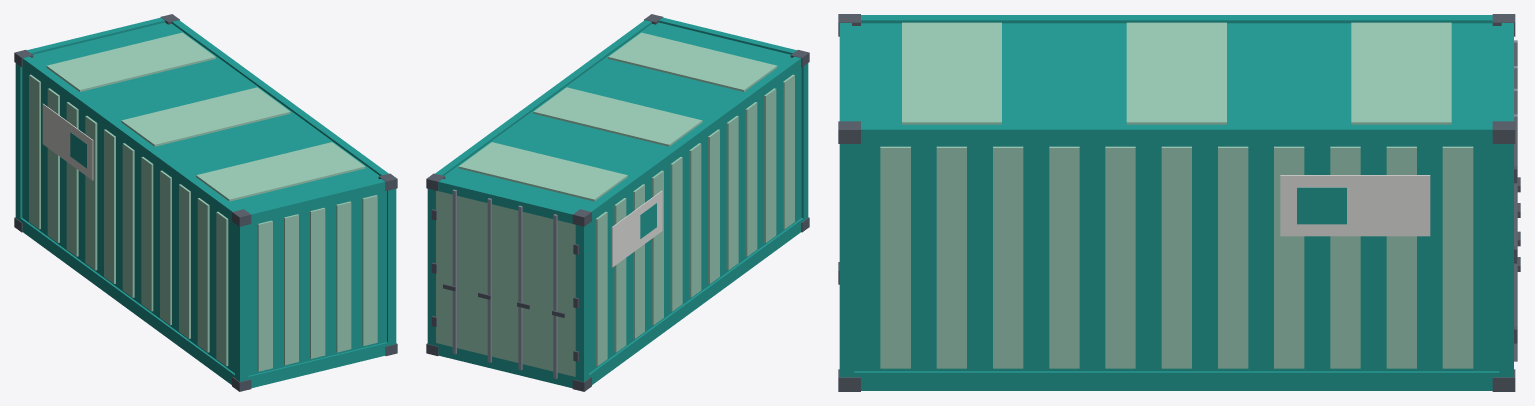
The model's file is container_b.glb.
3 renders of one model, left to right at view 1: azimuth 30°, elevation 25°; view 2: azimuth 150°, elevation 25°; view 3: azimuth 270°, elevation 25°, orthographic. The views are drawn at different scales.
Parts seen in each view (by area): view 1: Container; view 2: Container; view 3: Container.
Part boxes in pixels (bbox=[...]): Container: bbox=[14, 14, 397, 391]; Container: bbox=[426, 14, 809, 391]; Container: bbox=[838, 14, 1520, 391].
Bounding box in the file's own units: 2.47 × 2.6 × 6.13.
